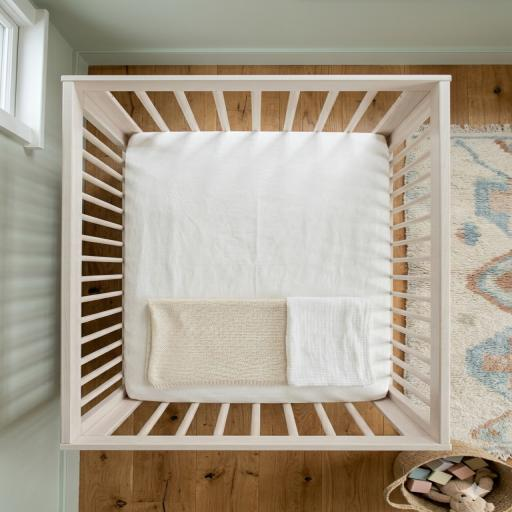crib: (122, 91, 398, 435)
